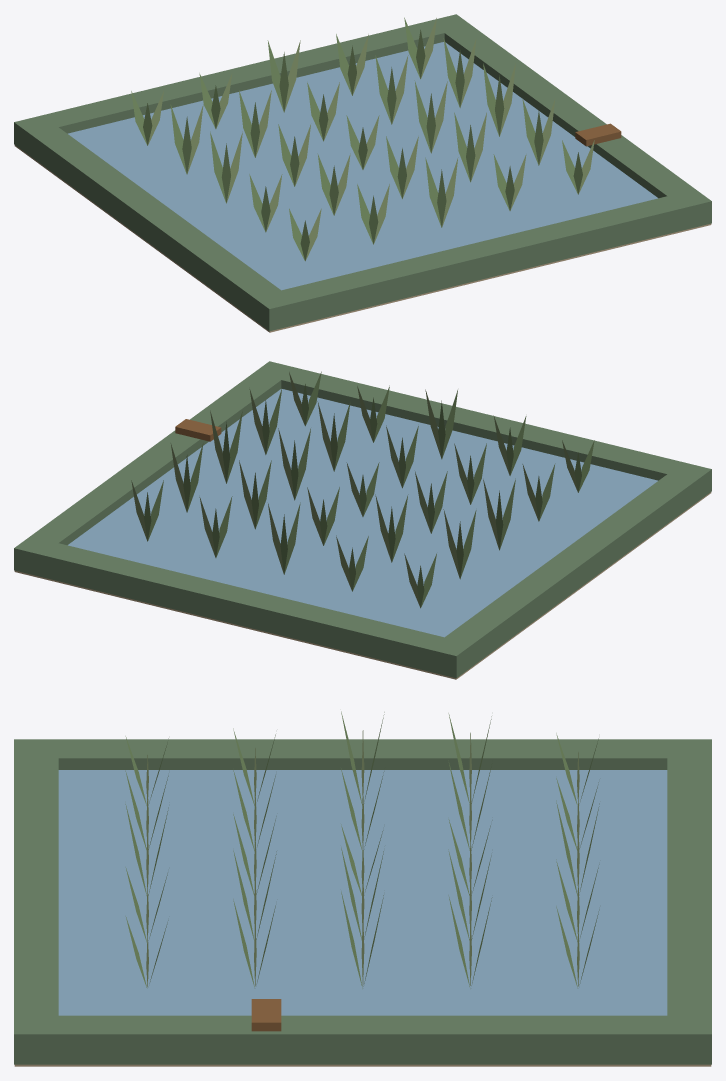
File: komachi-paddy.glb
3 renders of one model, top to bottom at view 1: azimuth 30°, elevation 25°; view 2: azimuth 150°, elevation 25°; view 3: azimuth 270°, elevation 25°, orthographic. The views are drawn at different scales.
Parts seen in each view (by area): view 1: Komachi_paddy; view 2: Komachi_paddy; view 3: Komachi_paddy.
Boxes of the visible parts, x1,y1,x2,y2 form: Komachi_paddy: [14, 14, 711, 332]; Komachi_paddy: [14, 361, 711, 679]; Komachi_paddy: [14, 711, 711, 1066].
Bounding box in the file's own units: 0.94 × 0.1742 × 0.94.
